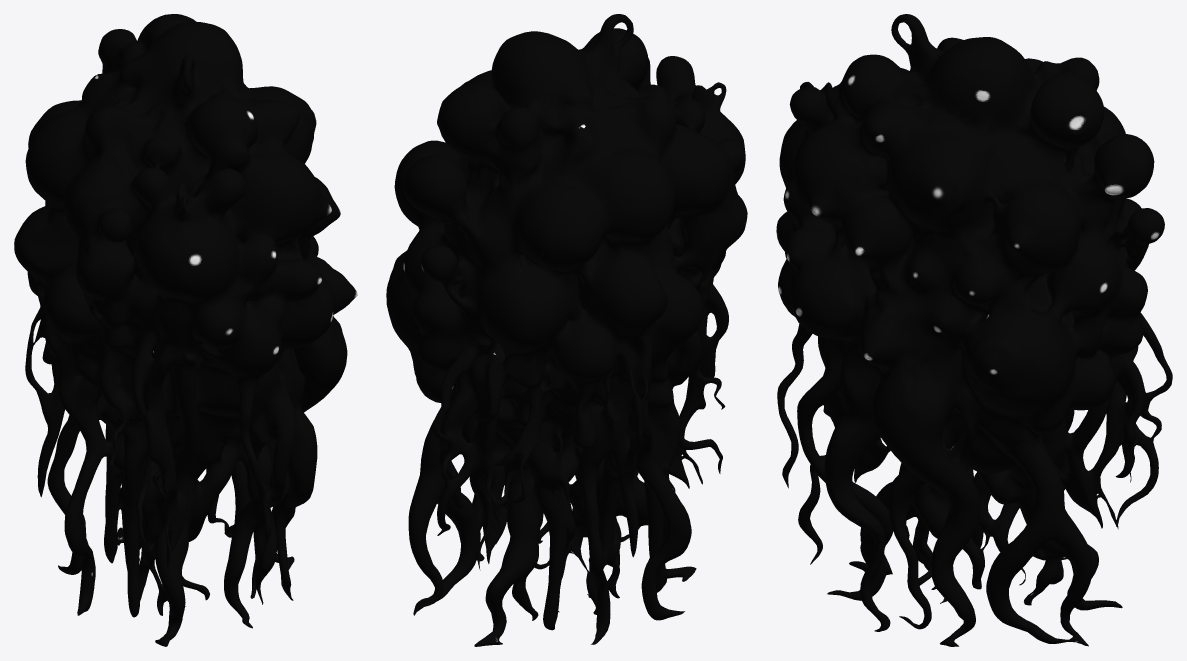
The model's file is YogSothothDecimated.glb.
3 renders of one model, left to right at view 1: azimuth 30°, elevation 25°; view 2: azimuth 150°, elevation 25°; view 3: azimuth 270°, elevation 25°, orthographic. The views are drawn at different scales.
Visible parts, largest first — view 1: Mesh_0; view 2: Mesh_0; view 3: Mesh_0.
Part boxes in pixels (bbox=[...]): Mesh_0: bbox=[14, 14, 357, 646]; Mesh_0: bbox=[386, 14, 747, 646]; Mesh_0: bbox=[776, 14, 1172, 646].
Bounding box in the file's own units: 1.01 × 1.89 × 1.17.
1 material, 1 textured.
